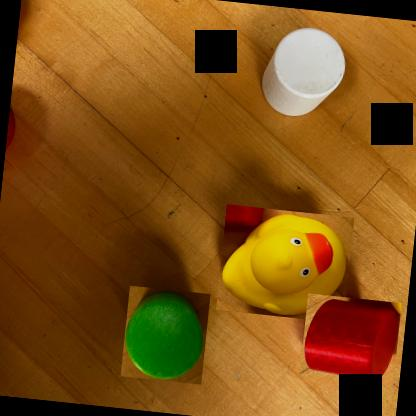duck: (216, 204, 353, 323)
green cylinder: (120, 285, 210, 384)
red cylinder: (299, 293, 401, 385)
white cylinder: (256, 21, 350, 122)
